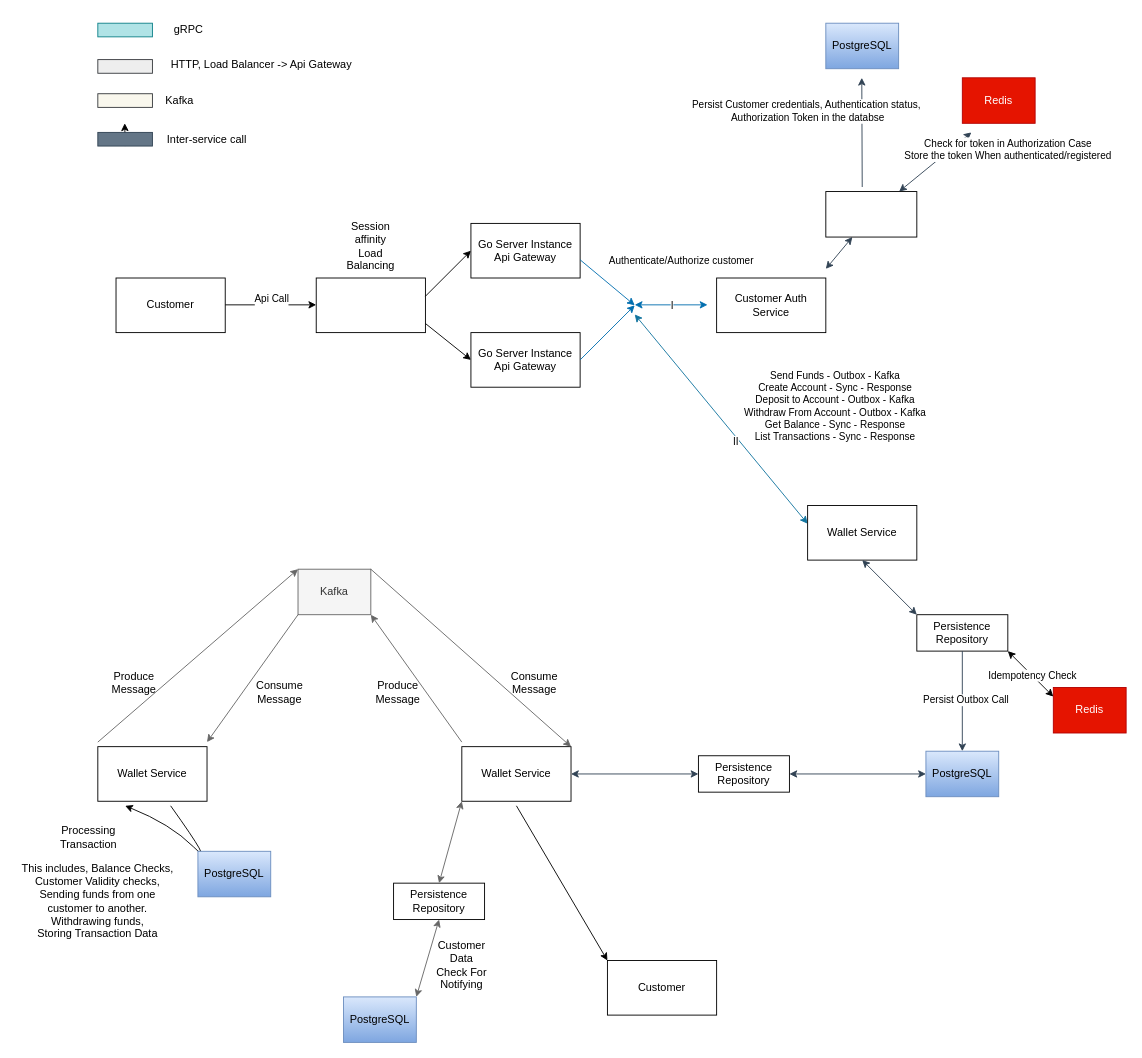
The diagram is 1142 pixels wide and 1058 high, and some of its shapes have lost their labels. The shapes that lost their labels are listed below. From the top down, each one's centre as x and y in pixels, then its label:
At point 871,214: "Persistence, Caching Repository".
At point 370,305: "Load Balancer".
